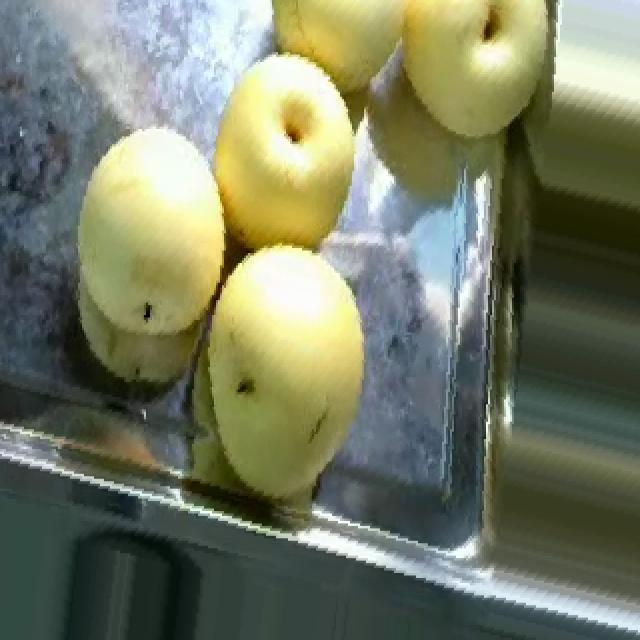Fruit: (156, 221, 390, 518), (32, 109, 262, 407), (190, 42, 380, 276), (378, 0, 558, 154)
